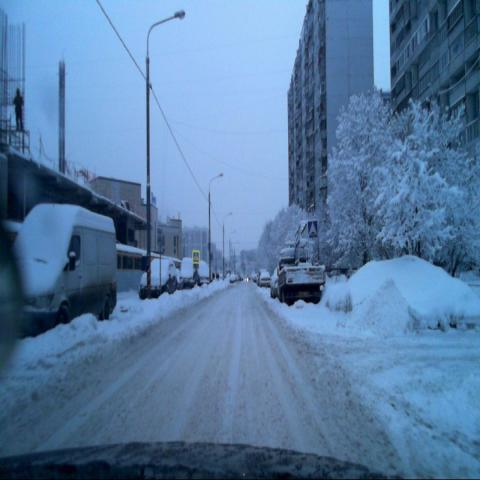5_20: (306, 216, 319, 238)
